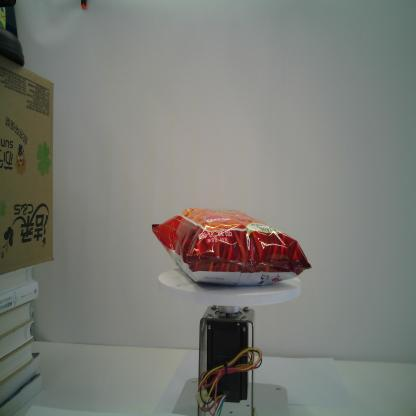Puffed Food: (151, 206, 312, 287)
